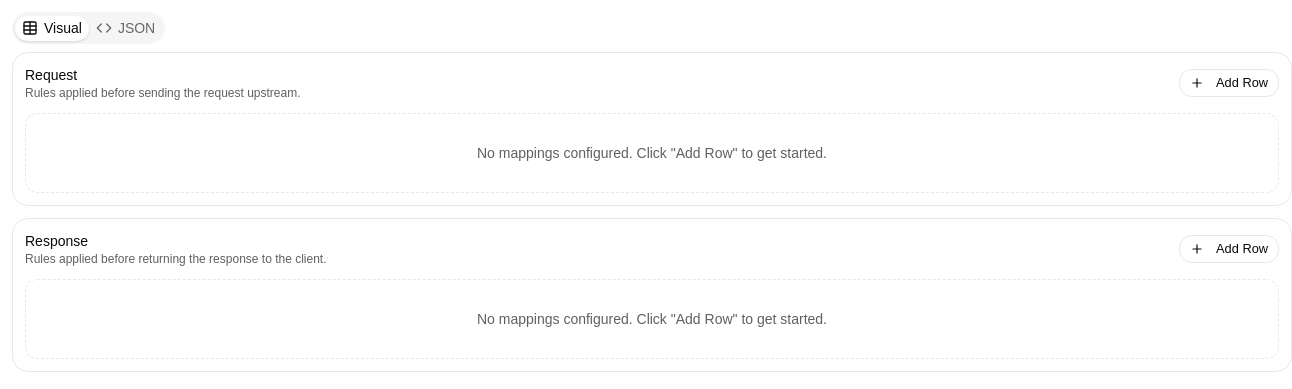
Test case: TextReplacementEditor › adds, edits, and deletes a visual rule
Click the 1st button "Add Row". click: (1229, 83)
box: 1179,69 -> 1279,97
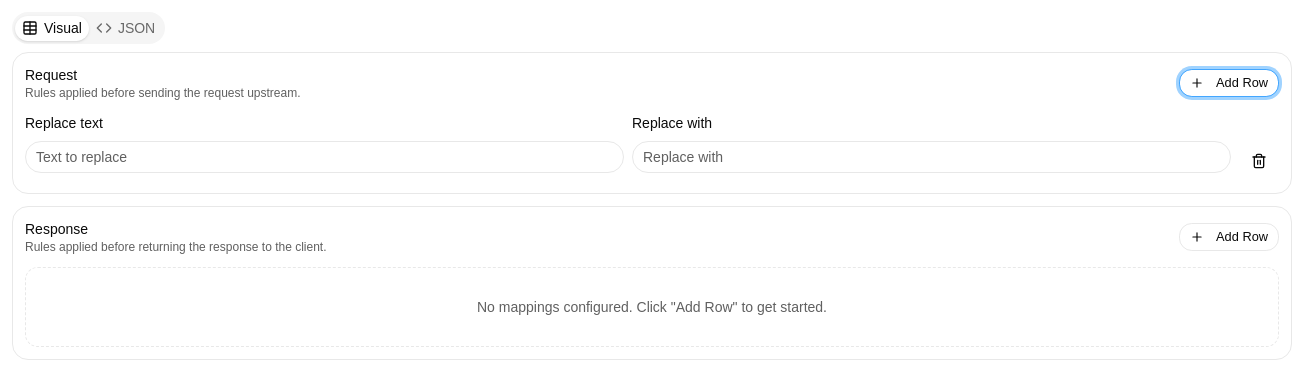
Type "矩龙API启动" into the field named "Request Replace text". click: (324, 157)
box: 25,141 -> 624,173
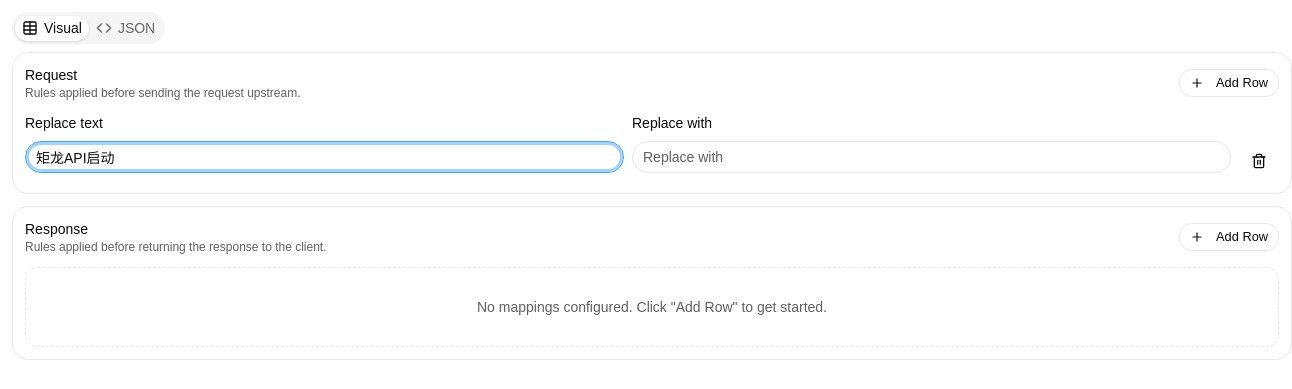
Type "By倾城" into the field named "Request Replace with". click: (932, 157)
box: 632,141 -> 1231,173
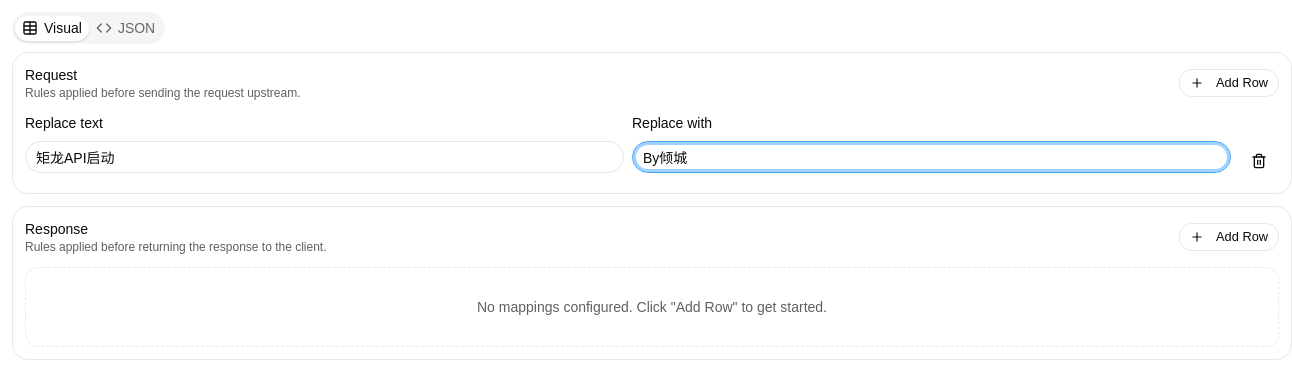
Click the button named "Request Delete". click: (1259, 161)
box: 1239,141 -> 1279,181
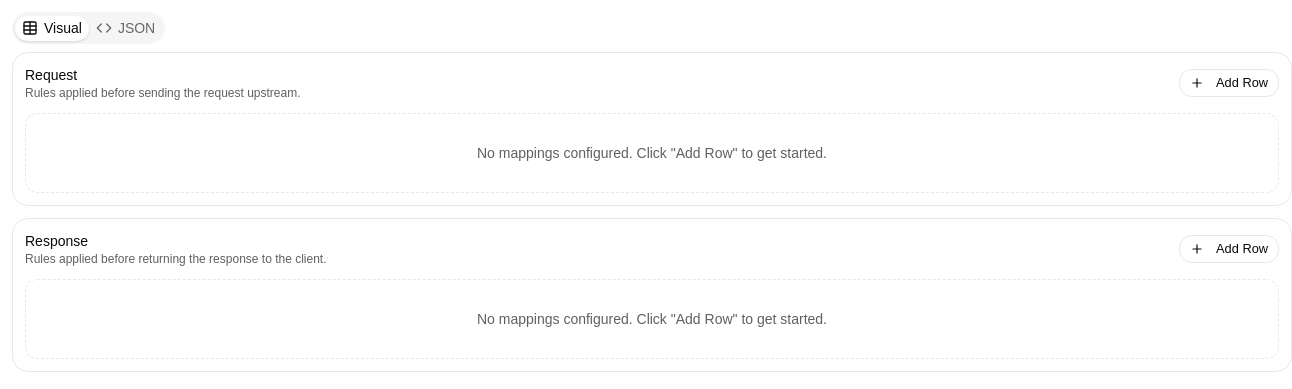
Now the text "No mappings configured. Click \"Add Row\" to get started." is shown 2 times, box 25,113 -> 1279,193; 25,279 -> 1279,359
